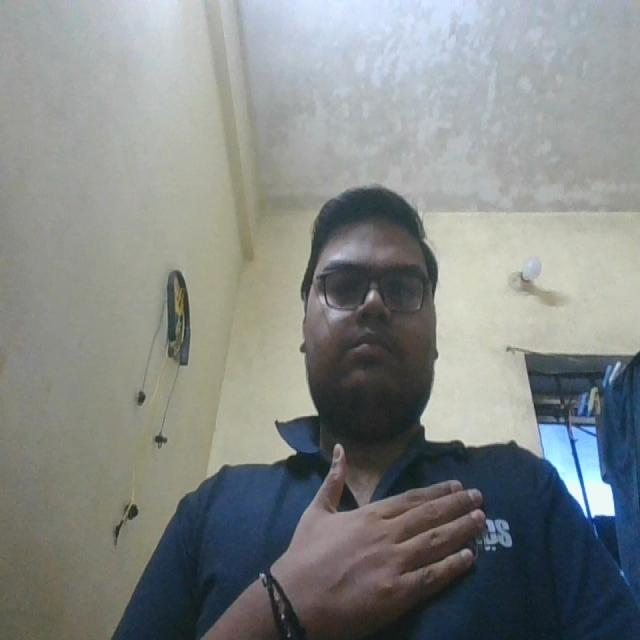Please: (260, 427, 500, 637)
